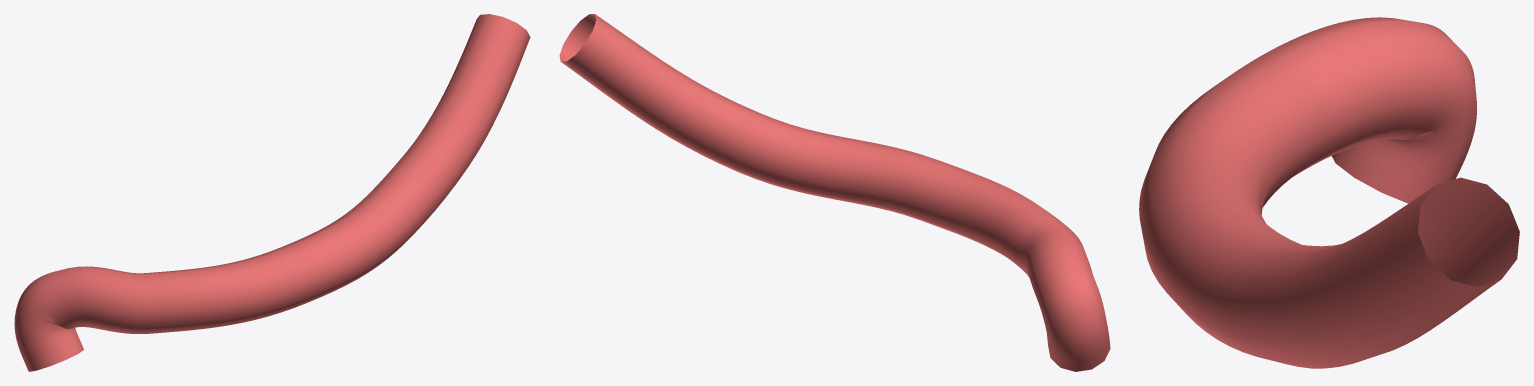
The model's file is Middle_cerebral_artery_(M1-segment).l_BezierCurve.282.glb.
3 renders of one model, left to right at view 1: azimuth 30°, elevation 25°; view 2: azimuth 150°, elevation 25°; view 3: azimuth 270°, elevation 25°, orthographic. The views are drawn at different scales.
Visible parts, largest first — view 1: Middle_cerebral_artery_(M1-segment).l_BezierCurve.282; view 2: Middle_cerebral_artery_(M1-segment).l_BezierCurve.282; view 3: Middle_cerebral_artery_(M1-segment).l_BezierCurve.282.
Boxes of the visible parts, left/top/right/bottom form: Middle_cerebral_artery_(M1-segment).l_BezierCurve.282: left=14, top=14, right=530, bottom=371; Middle_cerebral_artery_(M1-segment).l_BezierCurve.282: left=559, top=14, right=1110, bottom=371; Middle_cerebral_artery_(M1-segment).l_BezierCurve.282: left=1139, top=17, right=1519, bottom=368.
Bounding box in the file's own units: 0.0292 × 0.0126 × 0.00929.
